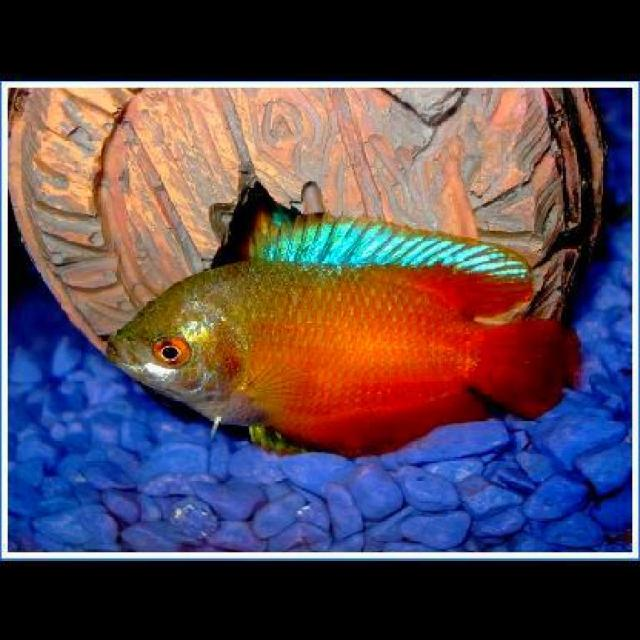Gourami: (106, 186, 577, 454)
